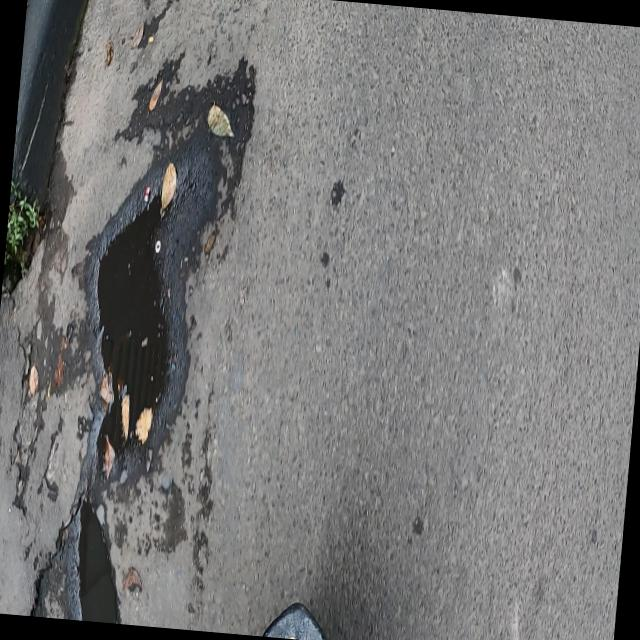Lubang: (97, 197, 164, 452), (32, 500, 119, 623)
